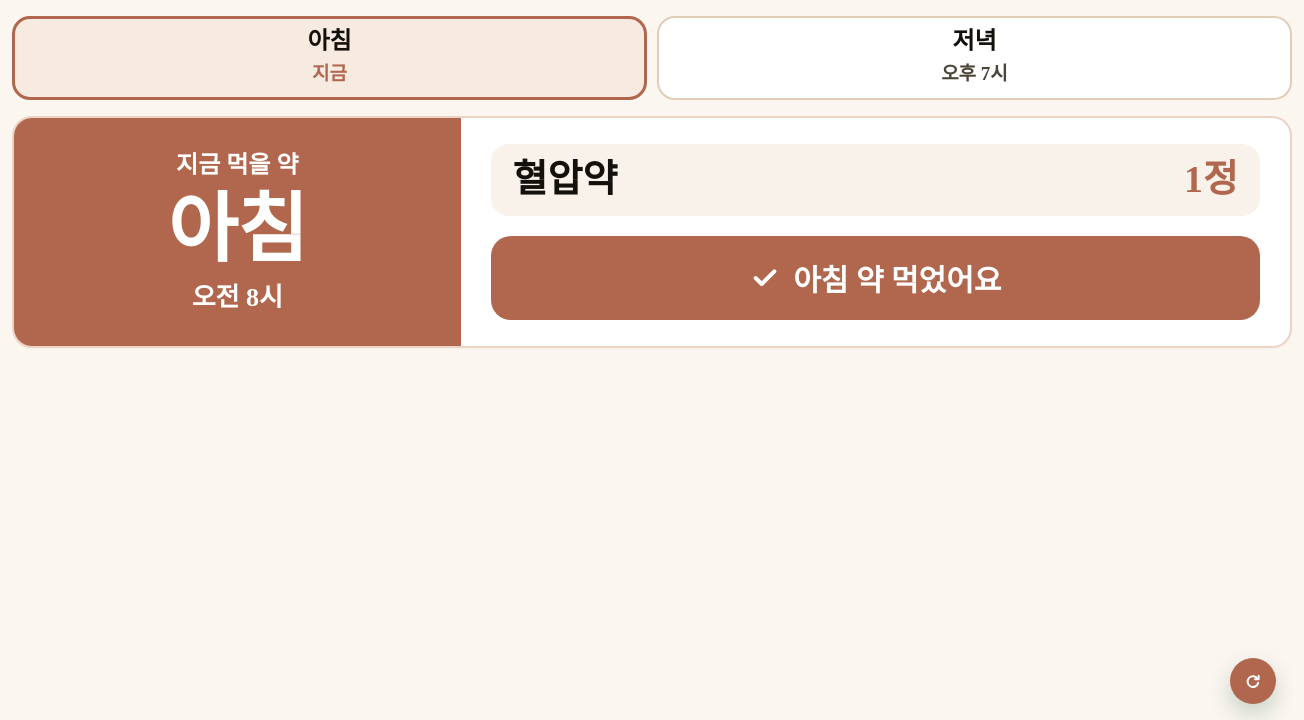
Test: WardMedicationContent (Chrome) › 현재 시간대 약을 크게 보여 주고, 해당 시간대의 약을 함께 체크한 뒤 그 시간대에 머문다
Expected: the text "지금 먹을 약" is shown, [176,147,298,183]
Expected: the text "혈압약" is shown, [513,157,618,203]
Click the button "아침 약 먹었어요": coordinates (875, 278) [491,236,1260,320]
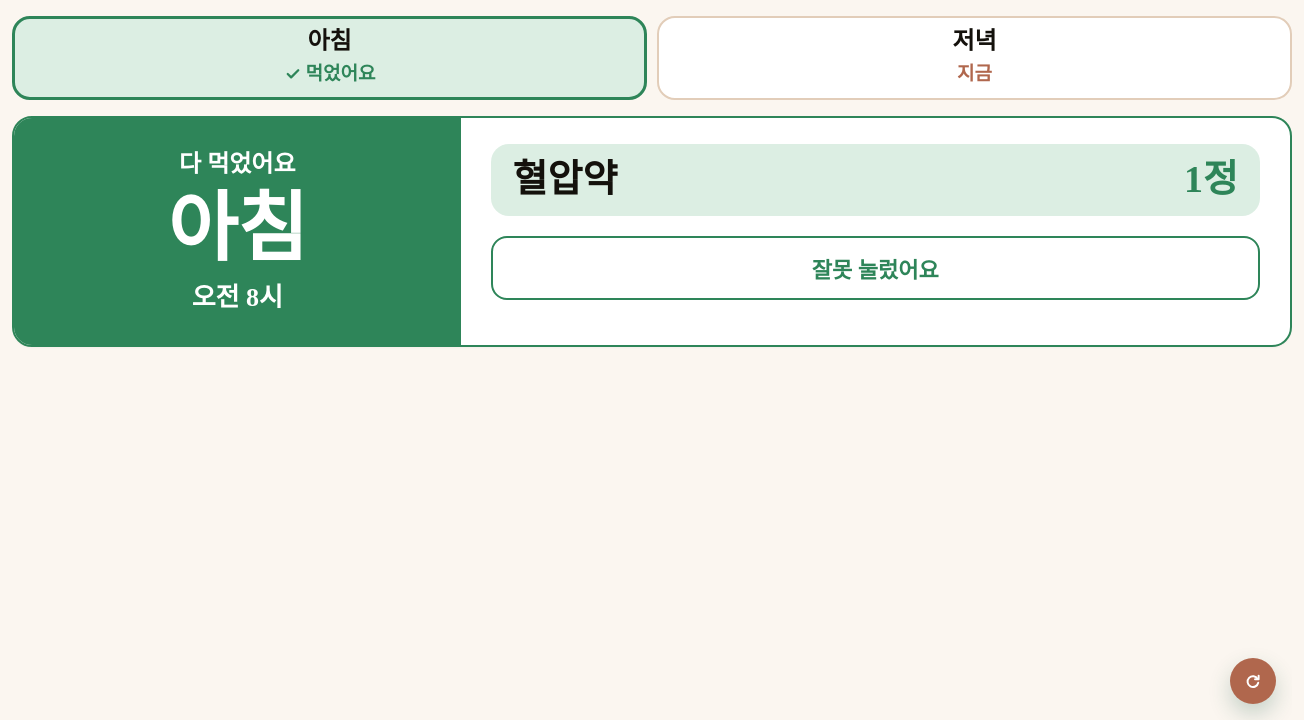
Expected: the text "다 먹었어요" is shown, [179,146,296,182]
Expected: the button named "아침 약 복용 체크 되돌리기" reads "잘못 눌렀어요", [491,236,1260,300]
